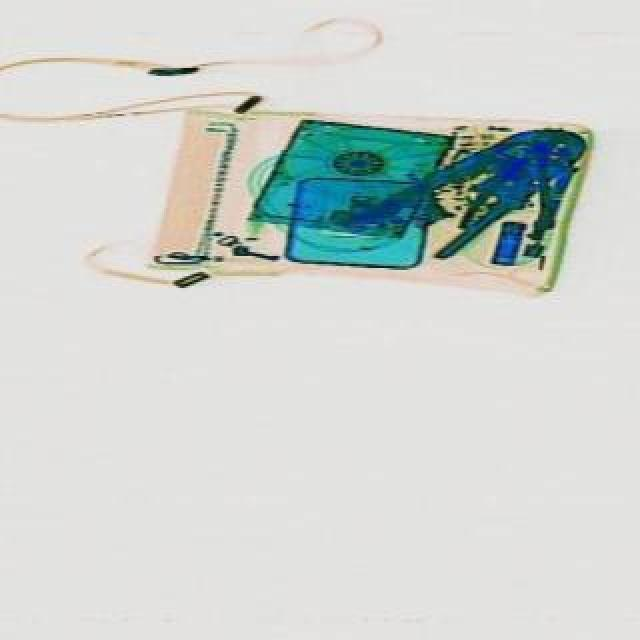wrench: (352, 94, 598, 286)
